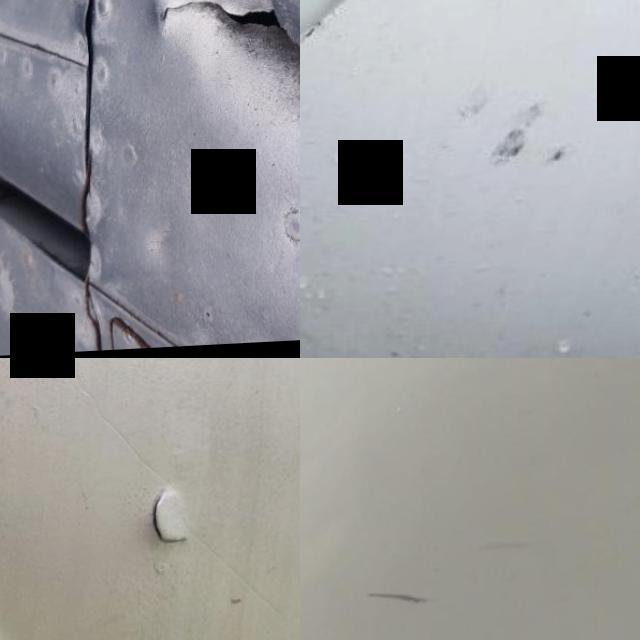Crack: (65, 0, 300, 174), (342, 497, 547, 640), (120, 473, 224, 574)
